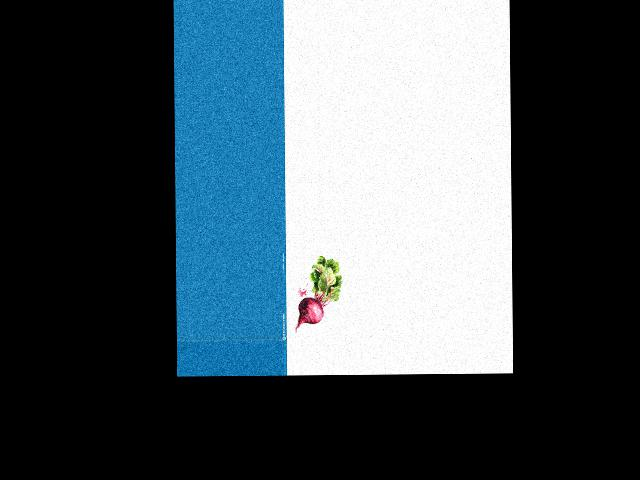beet: (294, 255, 342, 332)
